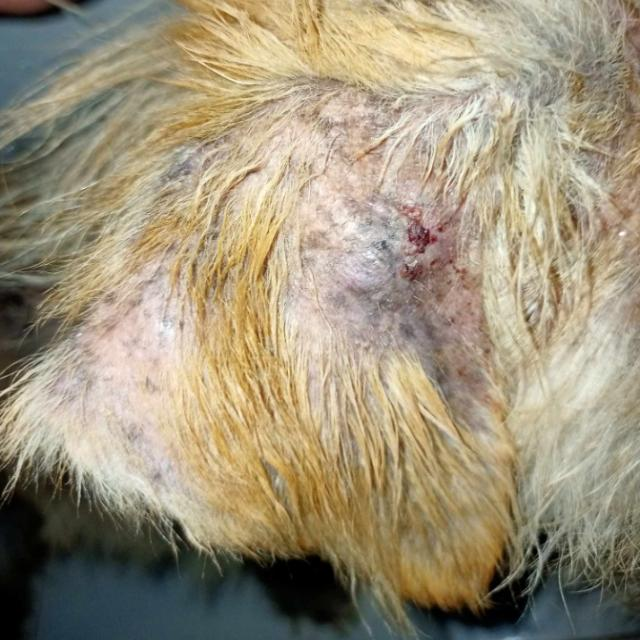demodicosis: (286, 125, 500, 366), (38, 295, 186, 470)
